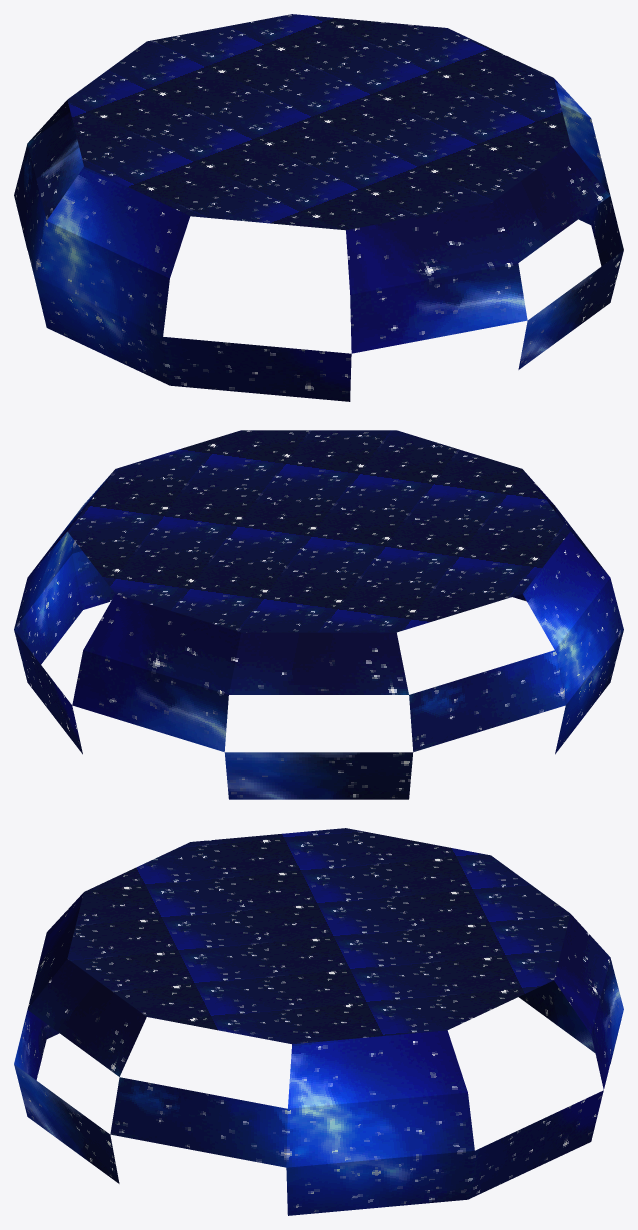
File: sky.dae
3 renders of one model, top to bottom at view 1: azimuth 30°, elevation 25°; view 2: azimuth 150°, elevation 25°; view 3: azimuth 270°, elevation 25°, orthographic. The views are drawn at different scales.
Visible parts, largest first — view 1: Nemu_348F0550_0_30, Nemu_28EAEF99_0_16, Nemu_7FC066E5_0_21, Nemu_6102F928_0_23, Nemu_38F74F3C_0_27, Nemu_3E6C6A01_0_18, Nemu_12CEC2A5_0_15, Nemu_8EB192_0_28, Nemu_32D1579E_0_25, Nemu_2108D1F4_0_24, Nemu_249D7DD5_0_20, Nemu_728BBF95_0_29; view 2: Nemu_348F0550_0_30, Nemu_12CEC2A5_0_15, Nemu_28EAEF99_0_16, Nemu_2108D1F4_0_24, Nemu_7FC066E5_0_21, Nemu_32D1579E_0_25, Nemu_6102F928_0_23, Nemu_8EB192_0_28, Nemu_3E6C6A01_0_18, Nemu_38F74F3C_0_27, Nemu_728BBF95_0_29; view 3: Nemu_348F0550_0_30, Nemu_6102F928_0_23, Nemu_3E6C6A01_0_18, Nemu_2108D1F4_0_24, Nemu_8EB192_0_28, Nemu_12CEC2A5_0_15, Nemu_32D1579E_0_25, Nemu_38F74F3C_0_27, Nemu_28EAEF99_0_16, Nemu_7FC066E5_0_21, Nemu_348F597D_0_26.
Part boxes in pixels (box(x1,y1,x2,y2)): Nemu_348F0550_0_30: box(67, 14, 570, 230); Nemu_28EAEF99_0_16: box(346, 203, 517, 294); Nemu_7FC066E5_0_21: box(350, 263, 527, 353); Nemu_6102F928_0_23: box(34, 104, 603, 336); Nemu_38F74F3C_0_27: box(163, 336, 351, 401); Nemu_3E6C6A01_0_18: box(47, 78, 590, 278); Nemu_12CEC2A5_0_15: box(28, 100, 610, 262); Nemu_8EB192_0_28: box(34, 159, 603, 385); Nemu_32D1579E_0_25: box(20, 148, 623, 369); Nemu_2108D1F4_0_24: box(14, 144, 46, 275); Nemu_249D7DD5_0_20: box(27, 112, 79, 178); Nemu_728BBF95_0_29: box(591, 169, 623, 266); Nemu_348F0550_0_30: box(67, 430, 570, 632); Nemu_12CEC2A5_0_15: box(229, 632, 408, 694); Nemu_28EAEF99_0_16: box(83, 470, 553, 694); Nemu_2108D1F4_0_24: box(72, 541, 565, 751); Nemu_7FC066E5_0_21: box(72, 503, 556, 751); Nemu_32D1579E_0_25: box(224, 752, 413, 799); Nemu_6102F928_0_23: box(14, 531, 623, 704); Nemu_8EB192_0_28: box(14, 554, 623, 754); Nemu_3E6C6A01_0_18: box(28, 470, 610, 649); Nemu_38F74F3C_0_27: box(14, 630, 82, 754); Nemu_728BBF95_0_29: box(72, 551, 114, 609); Nemu_348F0550_0_30: box(67, 828, 570, 1044); Nemu_6102F928_0_23: box(286, 1092, 474, 1167); Nemu_3E6C6A01_0_18: box(288, 1030, 467, 1108); Nemu_2108D1F4_0_24: box(110, 1077, 287, 1167); Nemu_8EB192_0_28: box(286, 1150, 474, 1215); Nemu_12CEC2A5_0_15: box(27, 959, 146, 1076); Nemu_32D1579E_0_25: box(14, 980, 617, 1183); Nemu_38F74F3C_0_27: box(42, 1021, 603, 1199); Nemu_28EAEF99_0_16: box(27, 892, 610, 1034); Nemu_7FC066E5_0_21: box(591, 957, 623, 1089); Nemu_348F597D_0_26: box(14, 1010, 46, 1080).
Bounding box in the file's own units: 18446 × 5070 × 18144.
16 materials, 16 textured.
